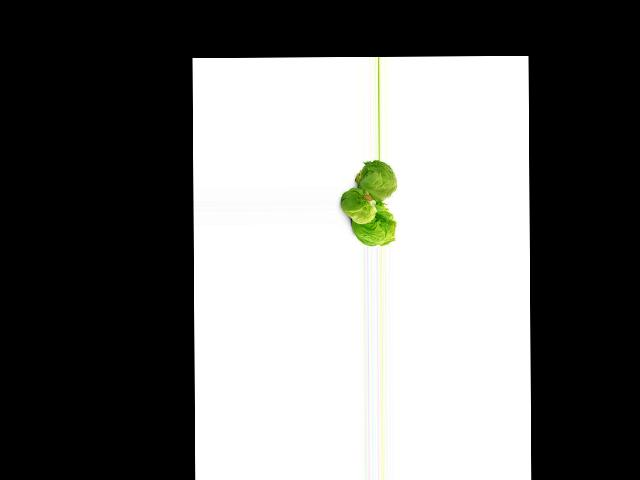lettuce: (354, 207, 394, 244)
